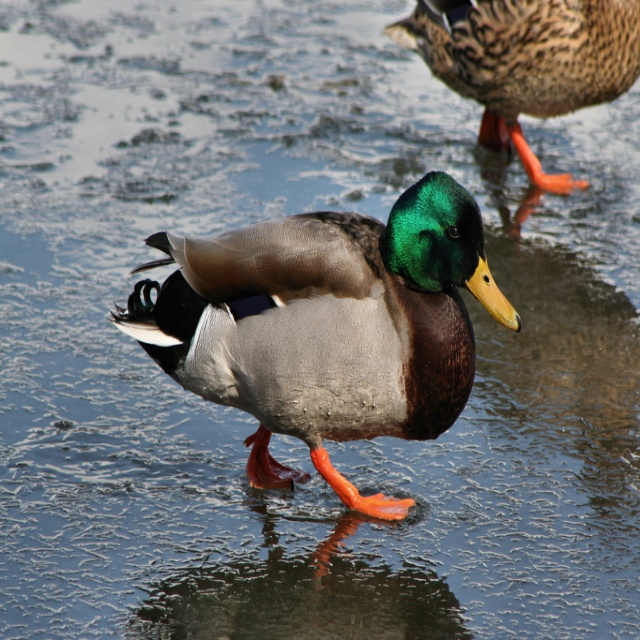Duck: (110, 161, 522, 522), (383, 0, 640, 245)
